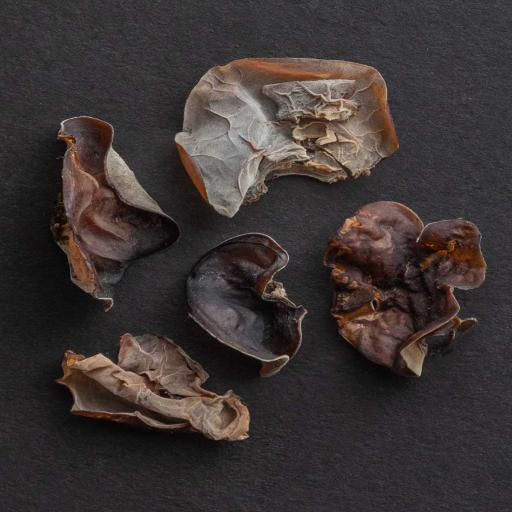Wood Ear Mushroom: (168, 46, 412, 218), (319, 193, 491, 384), (40, 109, 183, 323), (52, 326, 252, 457), (176, 221, 323, 383)
